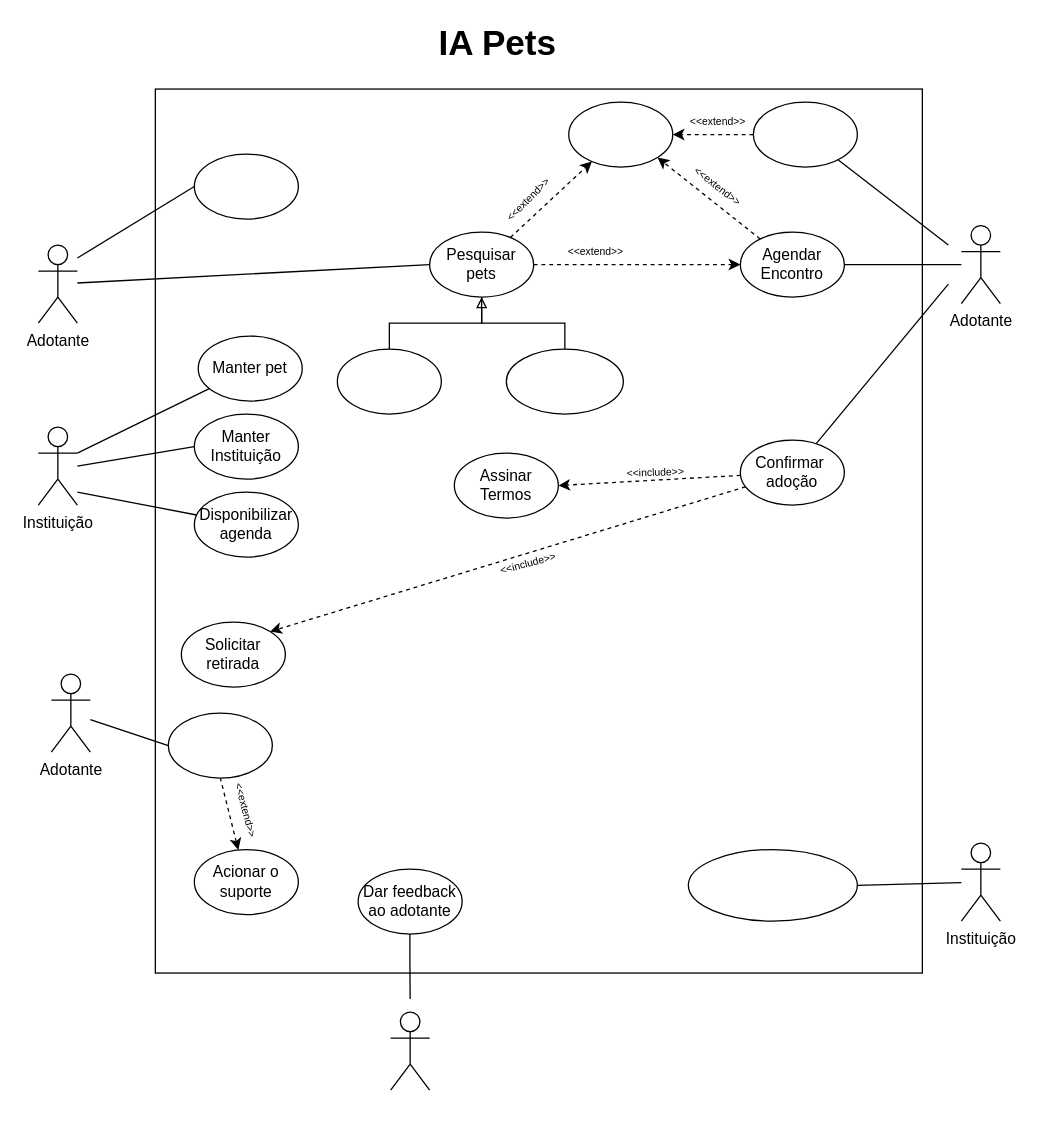
The diagram is 1037 pixels wide and 1139 high, and some of its shapes have lost their labels. The centre of each missing label's shape, as x and y in pixels:
"Acionar o chatbot" goes at point 219,745.
"Consultar favoritos" goes at point 804,134.
"Favoritar pet" goes at point 620,134.
"Manter adotante" goes at point 245,186.
"Pesquisa do PET especifica" goes at point 564,381.
"Pesquisa do PET genérica" goes at point 388,381.
"Solicitar acompanhamento" goes at point 772,884.
"Suporte" goes at point 409,1050.
